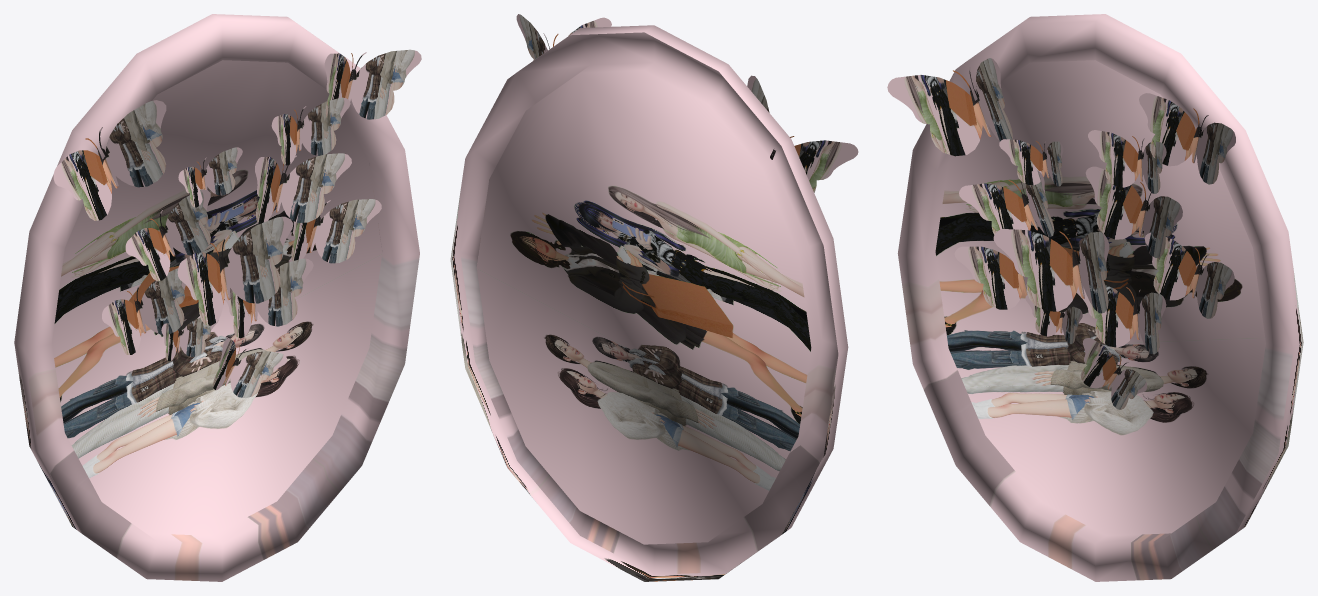
The model's file is frame_4_big_circle.fbx.
The picture shows the model from 3 angles, left to right: view 1: azimuth 30°, elevation 25°; view 2: azimuth 150°, elevation 25°; view 3: azimuth 330°, elevation 25°; orthographic projection. The views are drawn at different scales.
Parts seen in each view (by area): view 1: Cube.029; view 2: Cube.029; view 3: Cube.029.
Boxes of the visible parts, x1=… form: Cube.029: x1=14, y1=14, x2=421, y2=581; Cube.029: x1=450, y1=14, x2=858, y2=581; Cube.029: x1=887, y1=14, x2=1303, y2=581.
Size of the model in its own units: 136 by 184 by 23.87.
